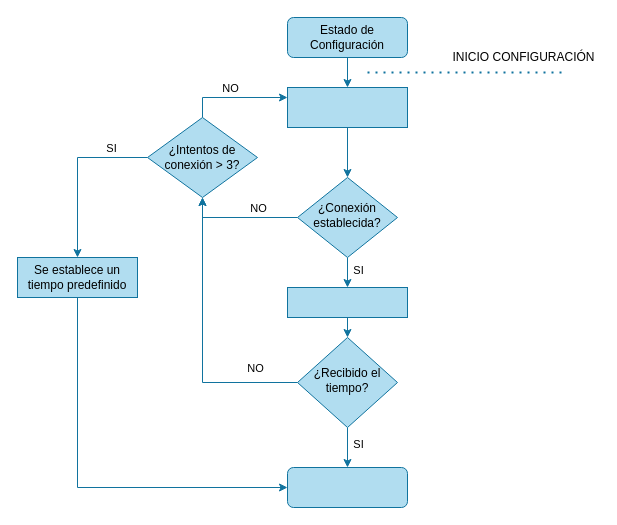
The diagram is 617 pixels wide and 525 high, and some of its shapes have lost their labels. Each missing label, with the centre of its shape:
Envío de petición de conexión LoRa: point (347, 107)
Estado de envío del tiempo a los nodos: point (347, 487)
Recepción del tiempo: point (347, 302)
